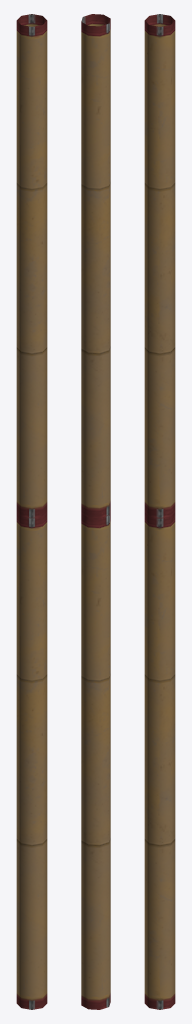
File: CP_Pipe_D_4m_01.fbx
3 renders of one model, left to right at view 1: azimuth 90°, elevation 25°; view 2: azimuth 150°, elevation 25°; view 3: azimuth 270°, elevation 25°, orthographic.
Visible parts, largest first — view 1: CP_Pipe_D_4m_01; view 2: CP_Pipe_D_4m_01; view 3: CP_Pipe_D_4m_01.
Boxes of the visible parts, left/top/right/bottom form: CP_Pipe_D_4m_01: left=16, top=14, right=47, bottom=1009; CP_Pipe_D_4m_01: left=81, top=14, right=110, bottom=1009; CP_Pipe_D_4m_01: left=144, top=14, right=175, bottom=1009.
Size of the model in its own units: 11.21 by 400 by 11.21.
